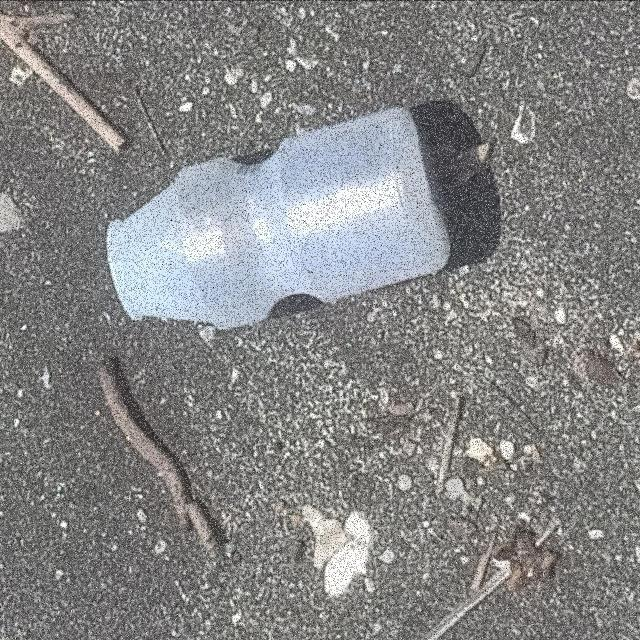plastic_waste: (108, 107, 451, 330)
